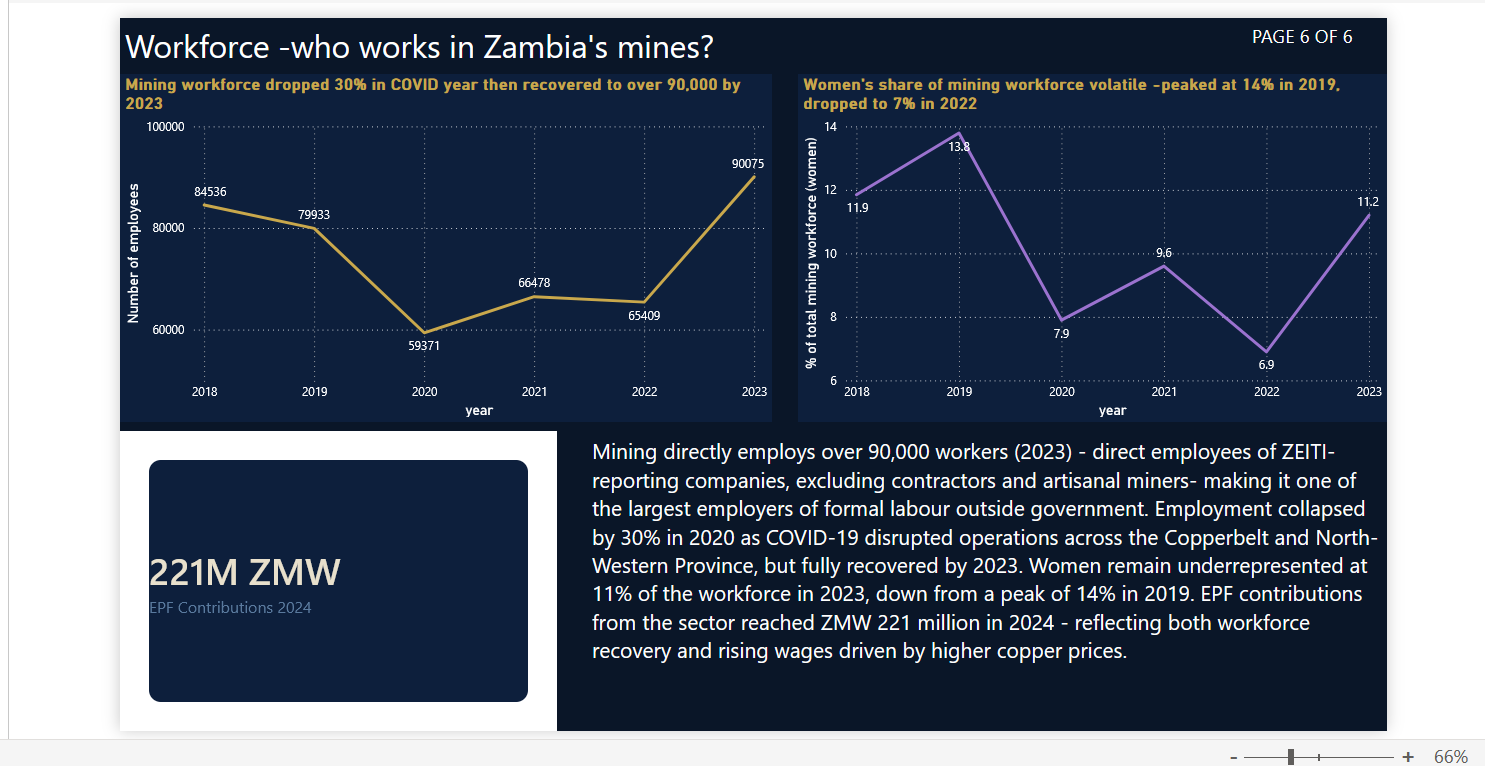

This screenshot's page, from the dashboard's own definition file:
{"tool":"powerbi","page":{"name":"Workforce","canvas":[1280,720],"ordinal":5},"visuals":[{"type":"textbox","box":[0,0,883,55.7],"z":0},{"type":"textbox","box":[1138.6,0,140.9,55.7],"z":1000},{"type":"lineChart","title":"Mining workforce dropped 30% in COVID year then recovered to over 90,000 by 2023","fields":{"Y":["Sum(5_workforce_master.total_employed)"],"Category":["5_workforce_master.year"]},"box":[0,55.7,658.6,352.2],"z":2000},{"type":"lineChart","title":"Women''s share of mining workforce volatile -peaked at 14% in 2019, dropped to 7% in 2022","fields":{"Y":["Sum(5_workforce_master.pct_women)"],"Category":["5_workforce_master.year"]},"box":[684.8,55.7,594.7,352.2],"z":3000},{"type":"cardVisual","fields":{"Data":["_Measures.EPF Contributions 2024"]},"box":[0,416.9,441.1,303.6],"z":4000},{"type":"textbox","box":[471.7,417.4,807.7,302.6],"z":5000}]}

Visuals, with their boxes on the page's 1280x720 design canvas (x1, y1, x2, y2). These are canvas units, not pixel positions in the 1485x766 screenshot, which may show the page scaled, cropped or inside an application window:
textbox: pyautogui.locateOnScreen(0, 0, 883, 56)
textbox: pyautogui.locateOnScreen(1139, 0, 1280, 56)
"Mining workforce dropped 30% in COVID year then recovered to over 90,000 by 2023" lineChart: pyautogui.locateOnScreen(0, 56, 659, 408)
"Women''s share of mining workforce volatile -peaked at 14% in 2019, dropped to 7% in 2022" lineChart: pyautogui.locateOnScreen(685, 56, 1280, 408)
cardVisual - _Measures.EPF Contributions 2024: pyautogui.locateOnScreen(0, 417, 441, 720)
textbox: pyautogui.locateOnScreen(472, 417, 1279, 720)
